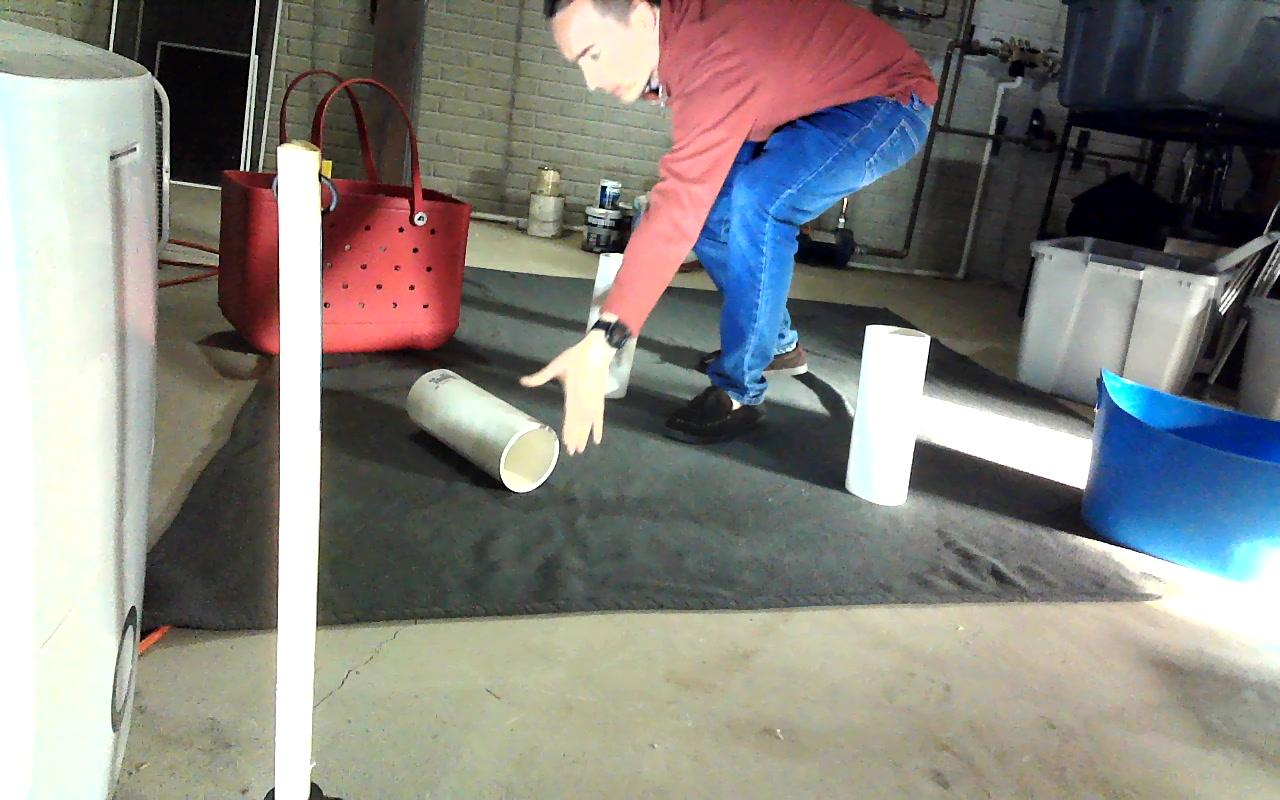coral: (405, 368, 558, 490), (846, 323, 928, 505)
